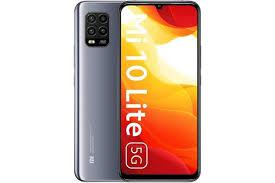Smartphone: (122, 4, 196, 180), (78, 5, 124, 179)
